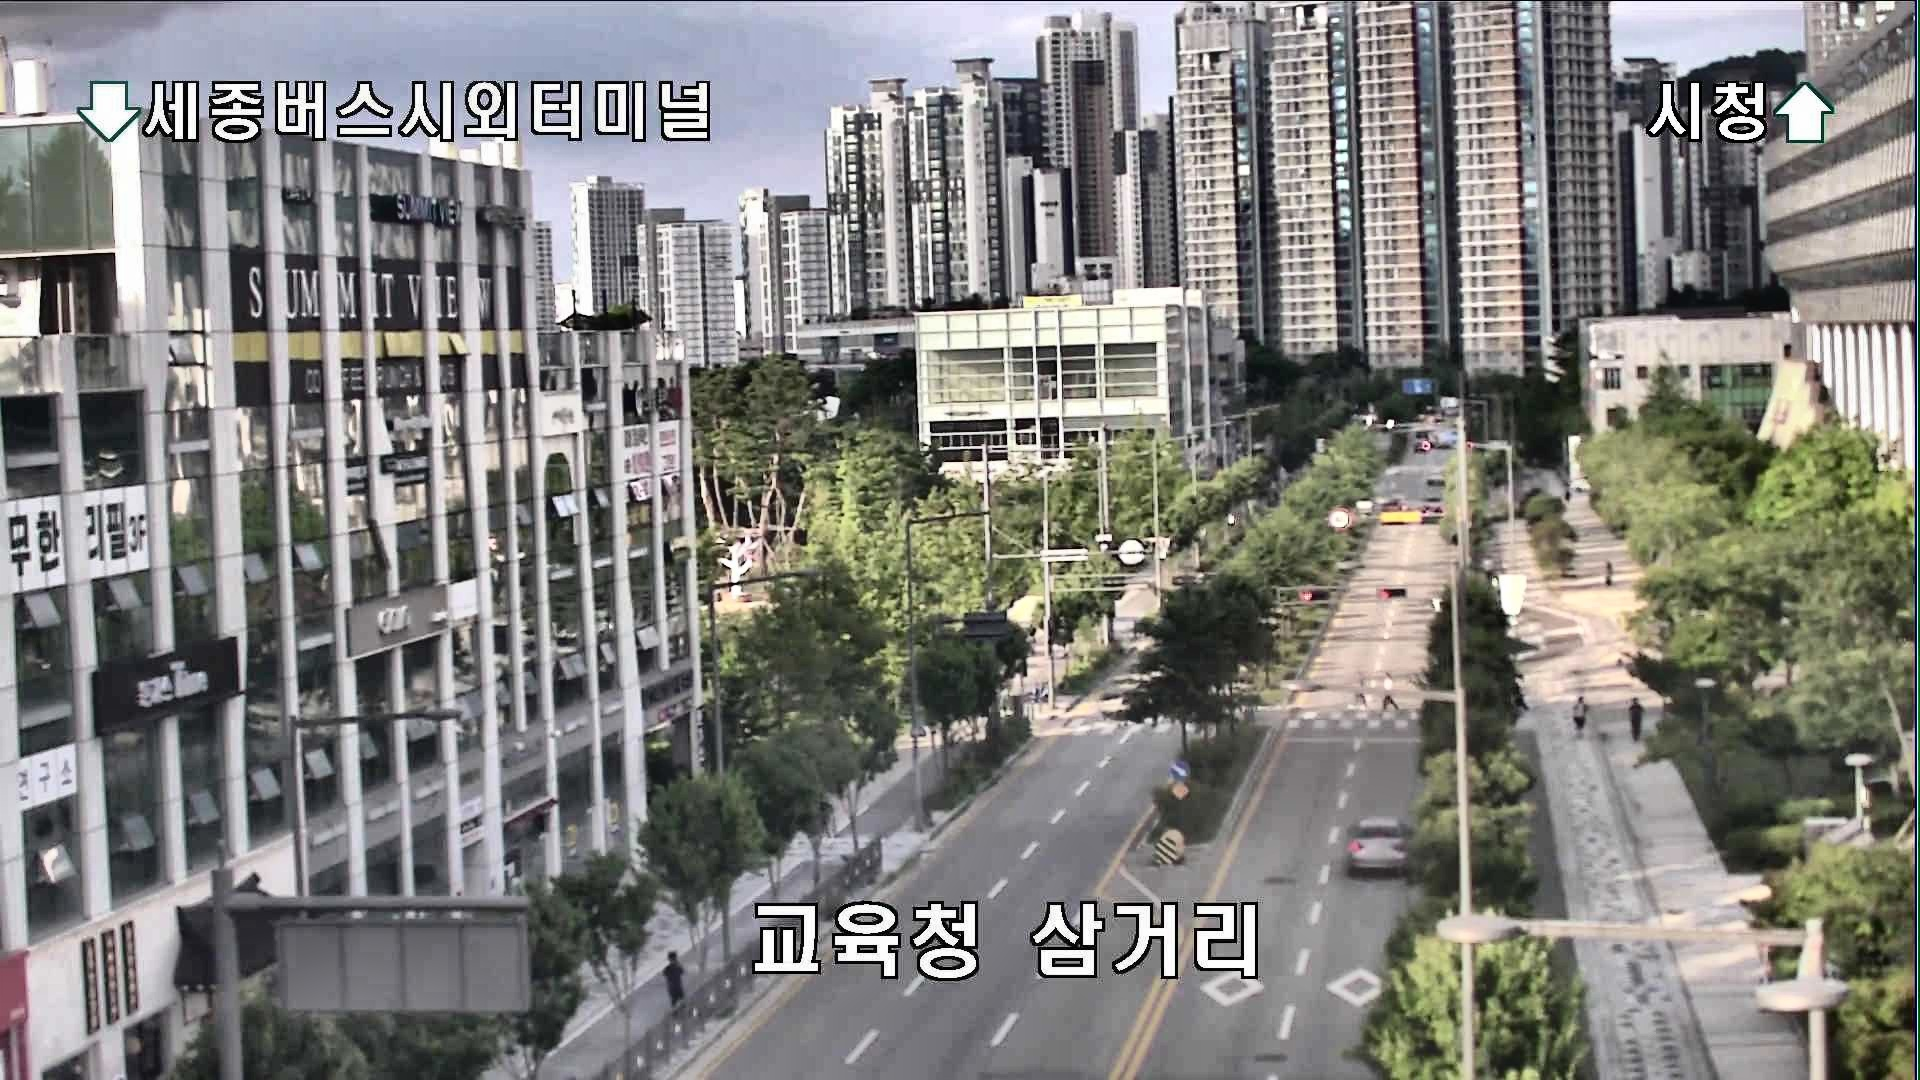crosswalk: (1379, 670, 1402, 713), (1349, 670, 1370, 709)
sidewalk: (659, 949, 687, 1015), (1623, 694, 1646, 742), (1567, 694, 1588, 742)
